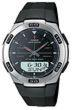watch: (0, 13, 72, 85)
